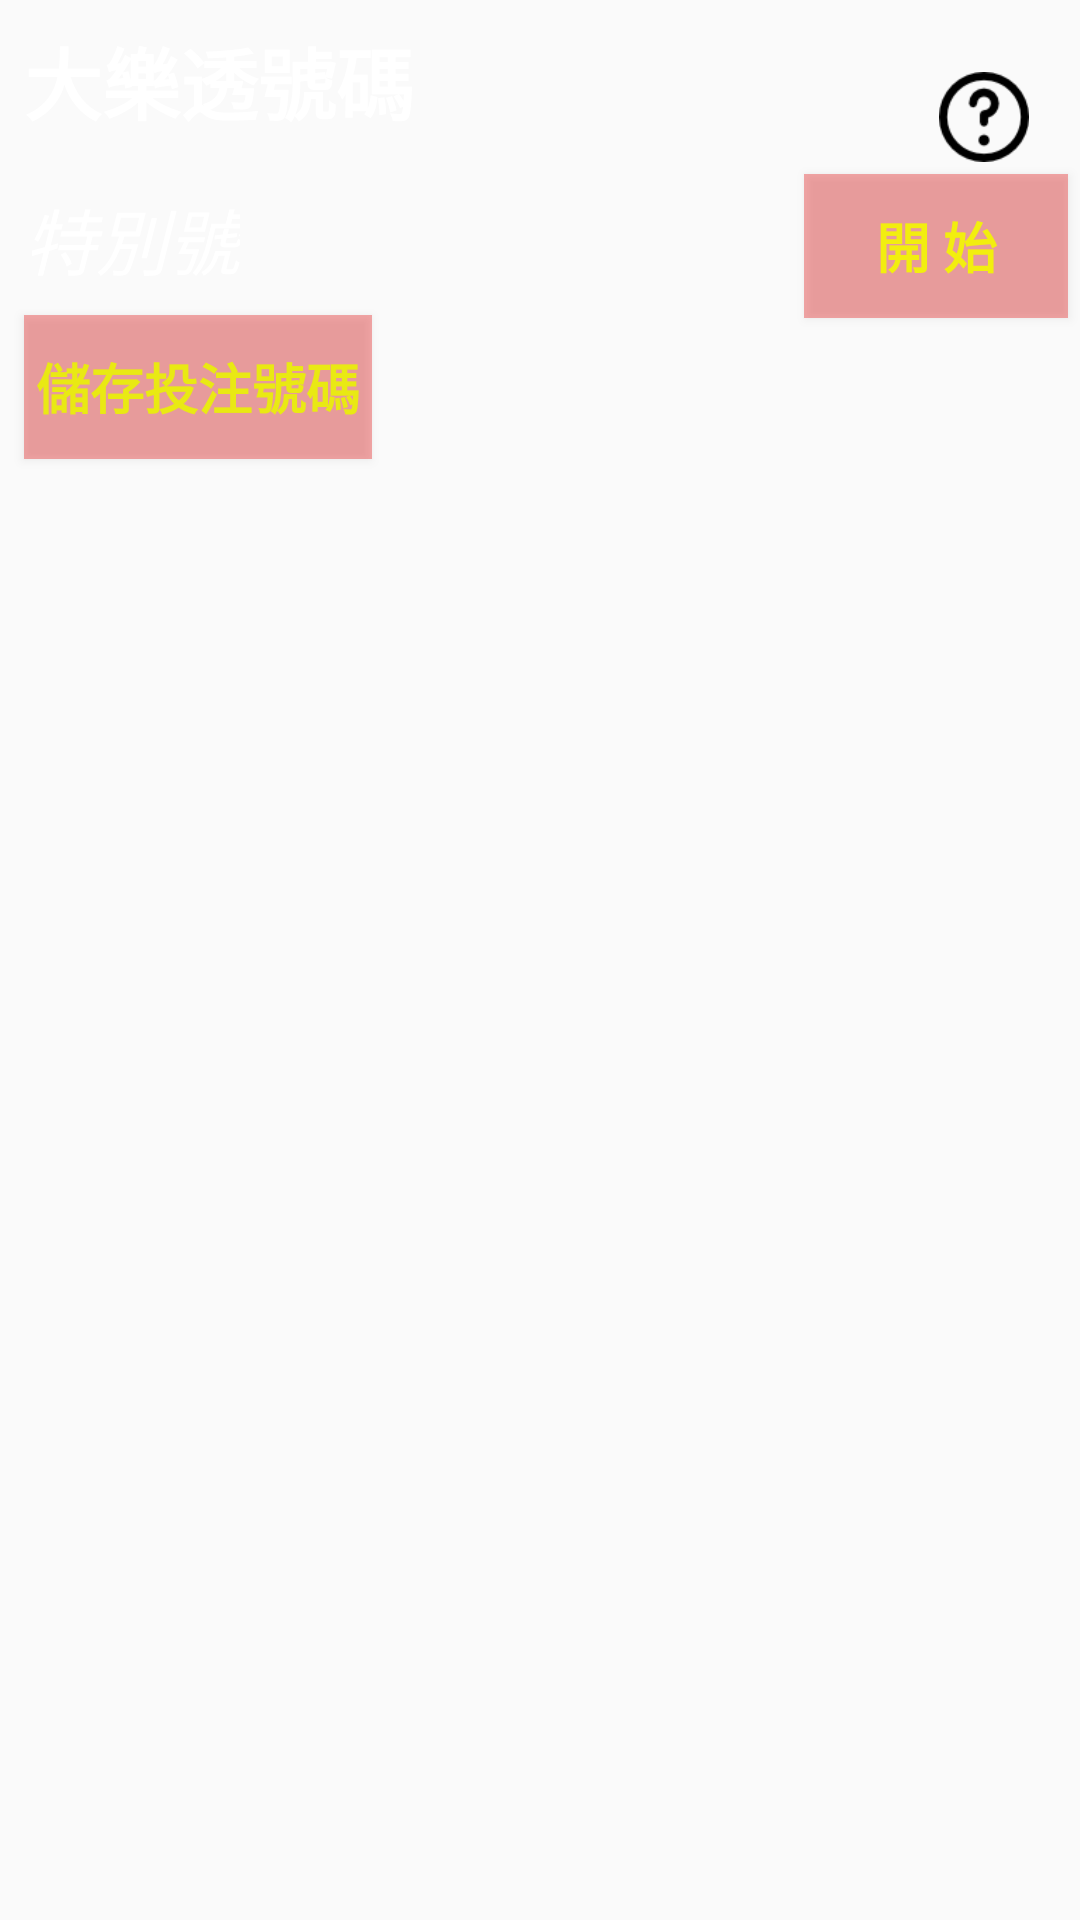

Point at icon controls on the screen. Image size 1080*1920, points as (x=x, y=y).
help: (x=984, y=117)
